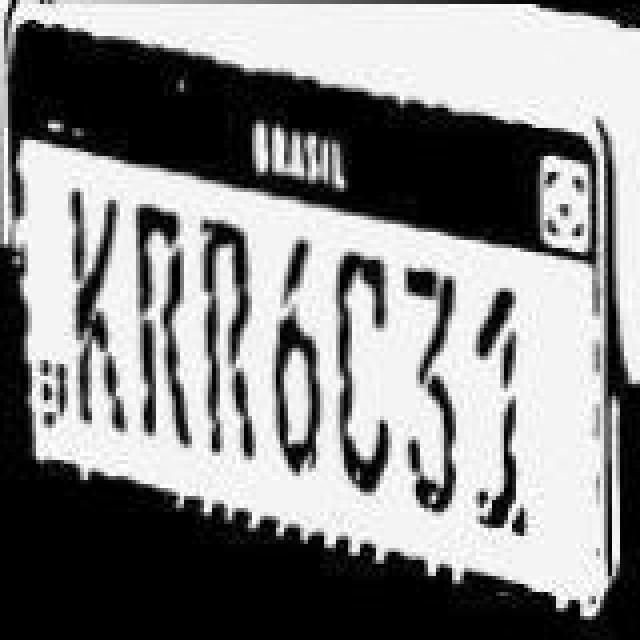1: (472, 286, 524, 534)
3: (404, 260, 456, 512)
6: (274, 236, 322, 472)
C: (334, 248, 390, 492)
K: (70, 190, 126, 434)
R: (134, 202, 190, 446), (200, 216, 252, 460)
